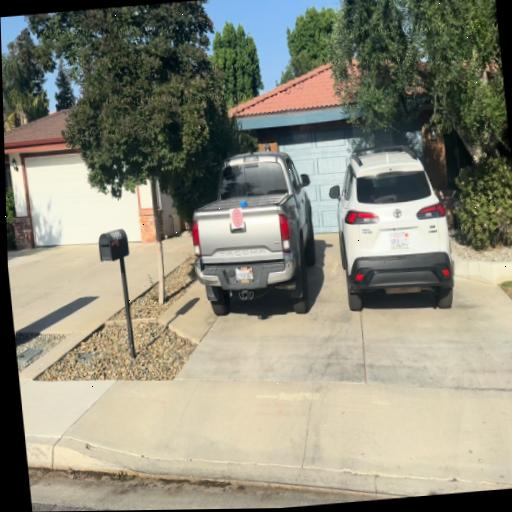bullseye: (230, 207, 244, 229)
